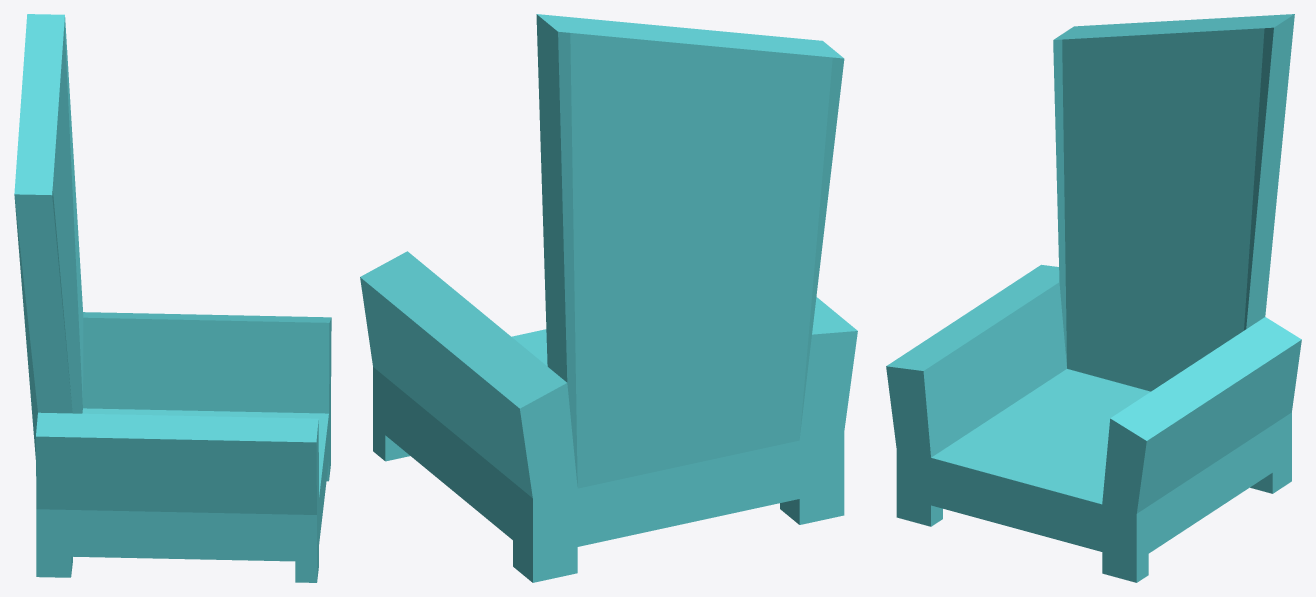
File: FauteuilCartoon.fbx
3 views of the same model, side by side, from view 1: azimuth 30°, elevation 25°; view 2: azimuth 150°, elevation 25°; view 3: azimuth 270°, elevation 25° (orthographic). The views are drawn at different scales.
Parts seen in each view (by area): view 1: fauteuil; view 2: fauteuil; view 3: fauteuil.
Part boxes in pixels (x1,y1,x2,y2): fauteuil: (14, 14, 331, 582); fauteuil: (360, 14, 857, 582); fauteuil: (886, 14, 1301, 582).
Bounding box in the file's own units: 72.8 × 88.44 × 72.99.
